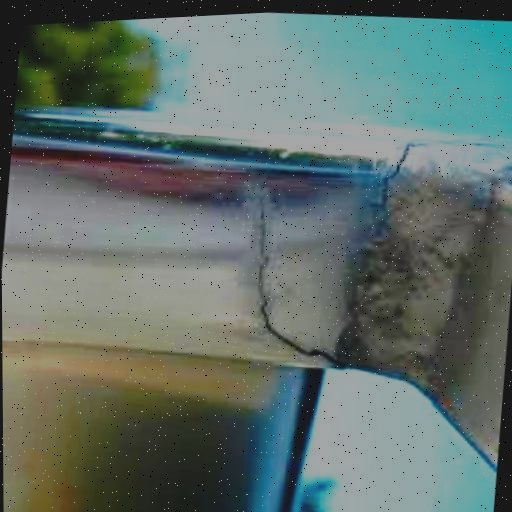crack: (245, 202, 351, 373), (360, 126, 501, 218)
